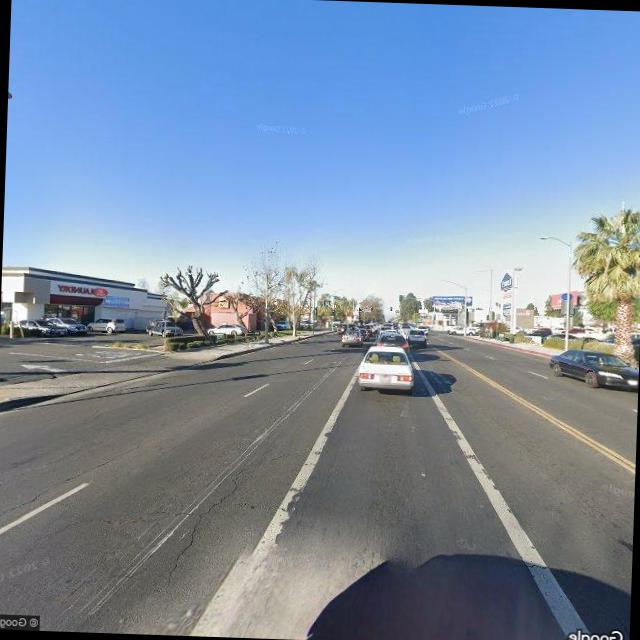pothole: (152, 430, 289, 592), (3, 430, 150, 518)
